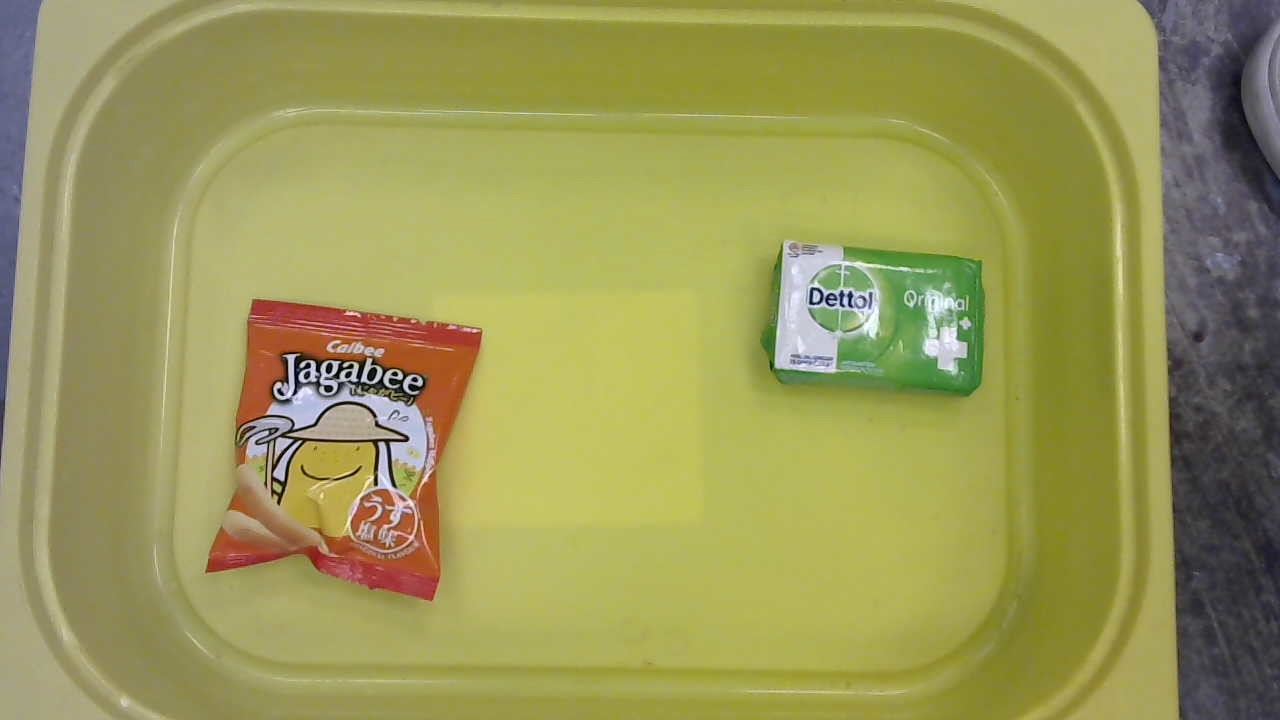Dettol: (761, 235, 991, 403)
JagabeeFarmer: (201, 290, 486, 610)
